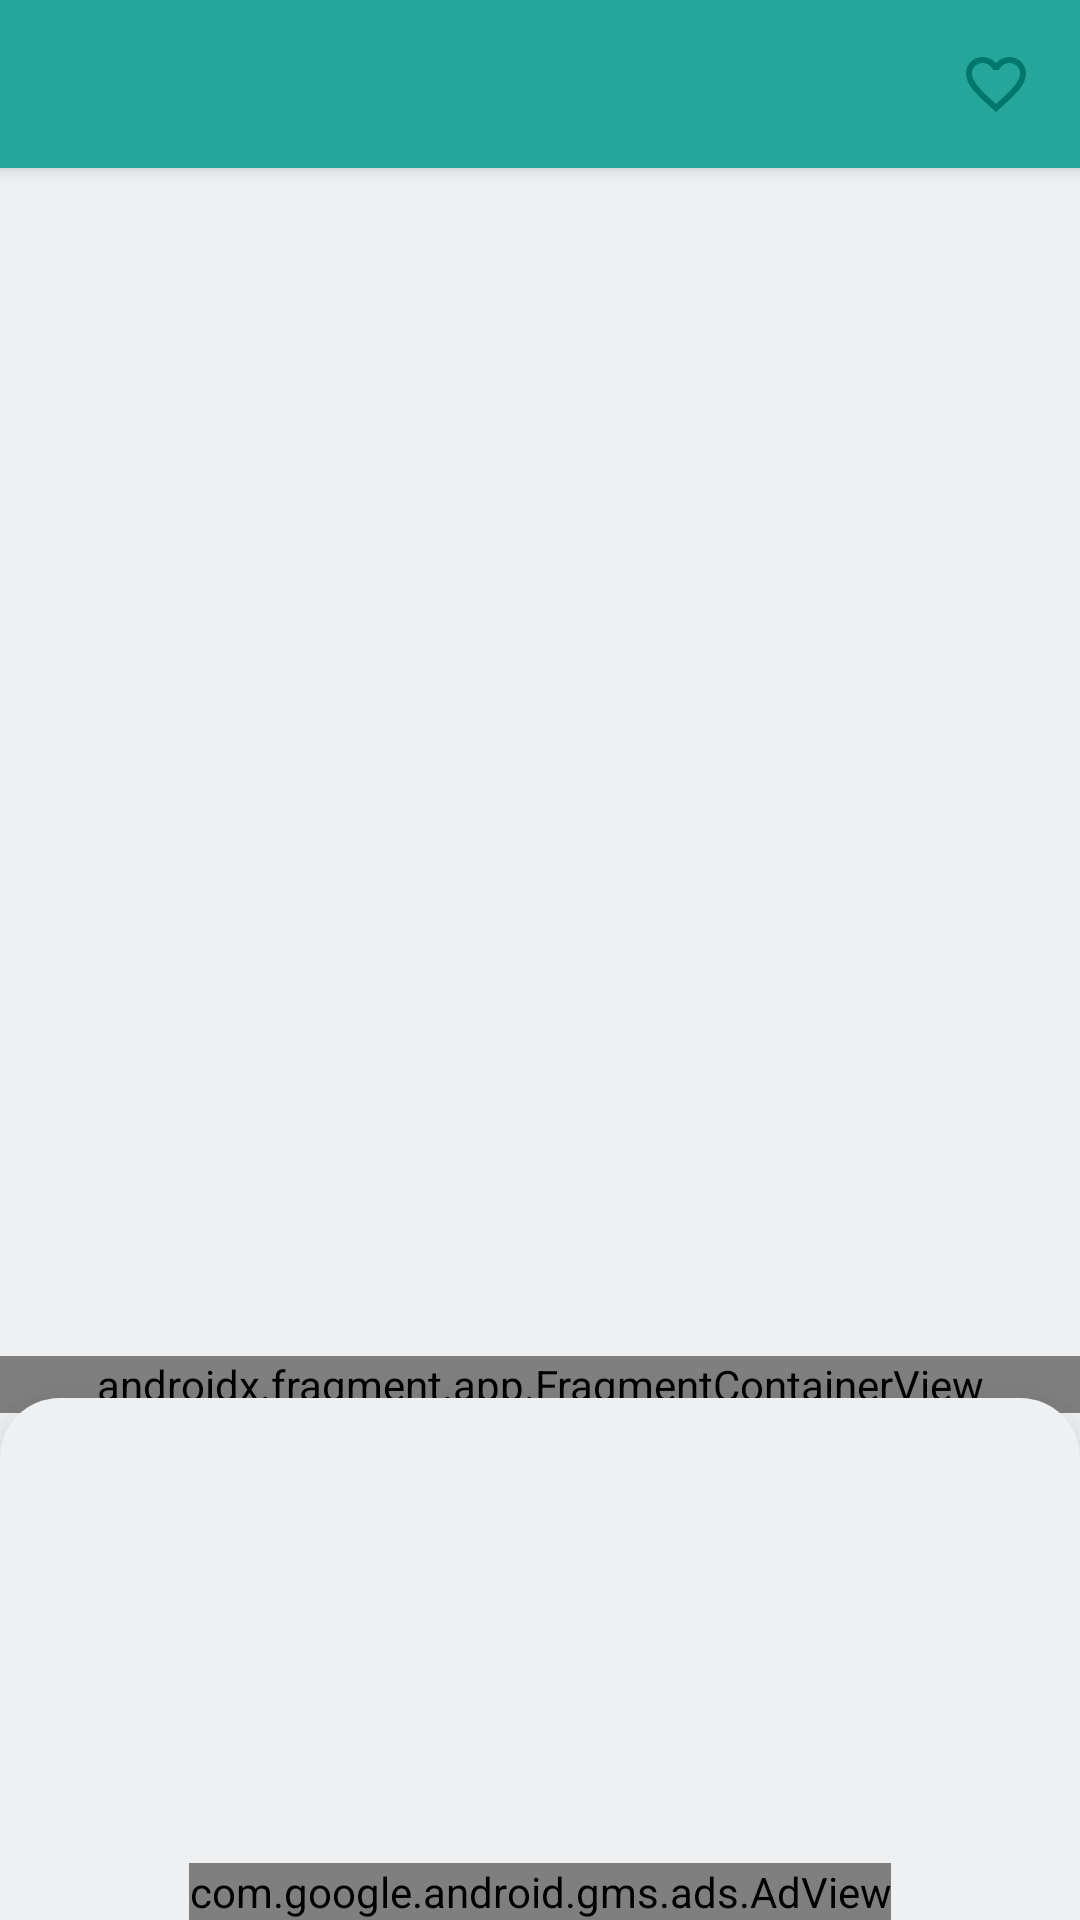

Icon click points for this 1080×1920 phone screenshot, format [x,y]:
favorite border: [996,84]
